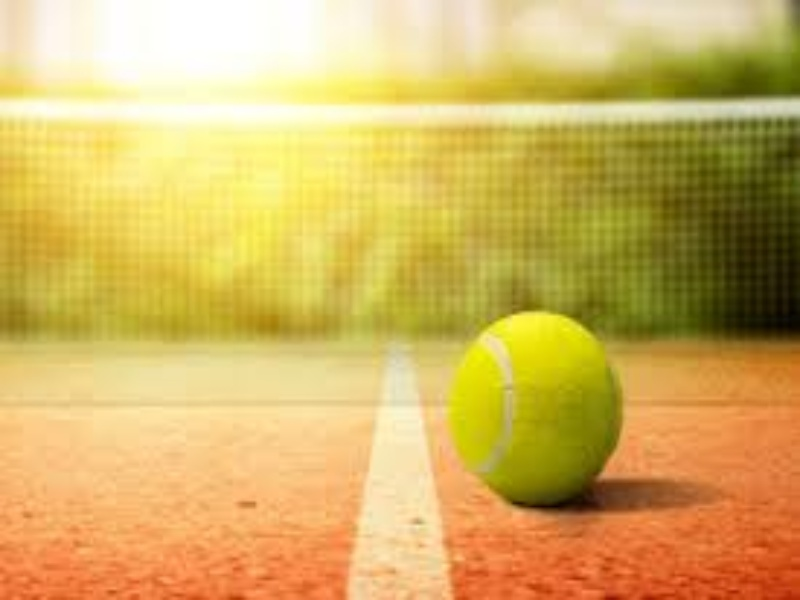tennis ball: (451, 299, 628, 521)
